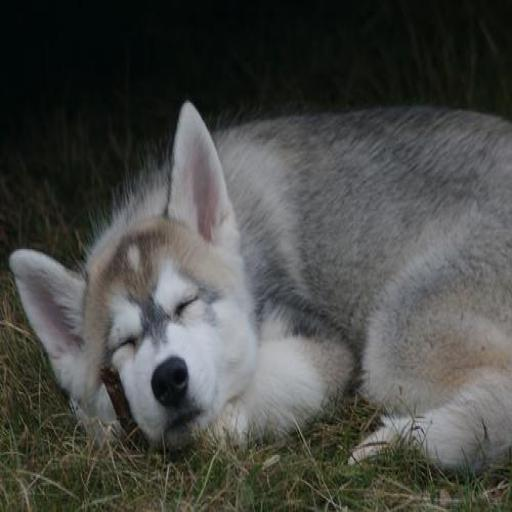dog_face: (10, 108, 256, 440)
